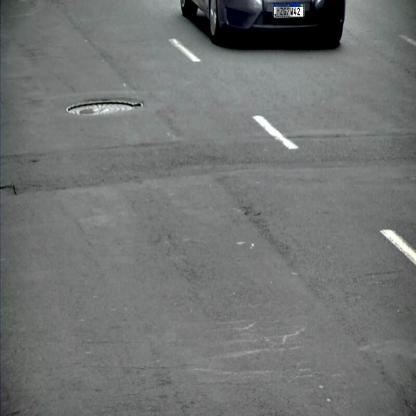PlacaM: (274, 3, 304, 17)
